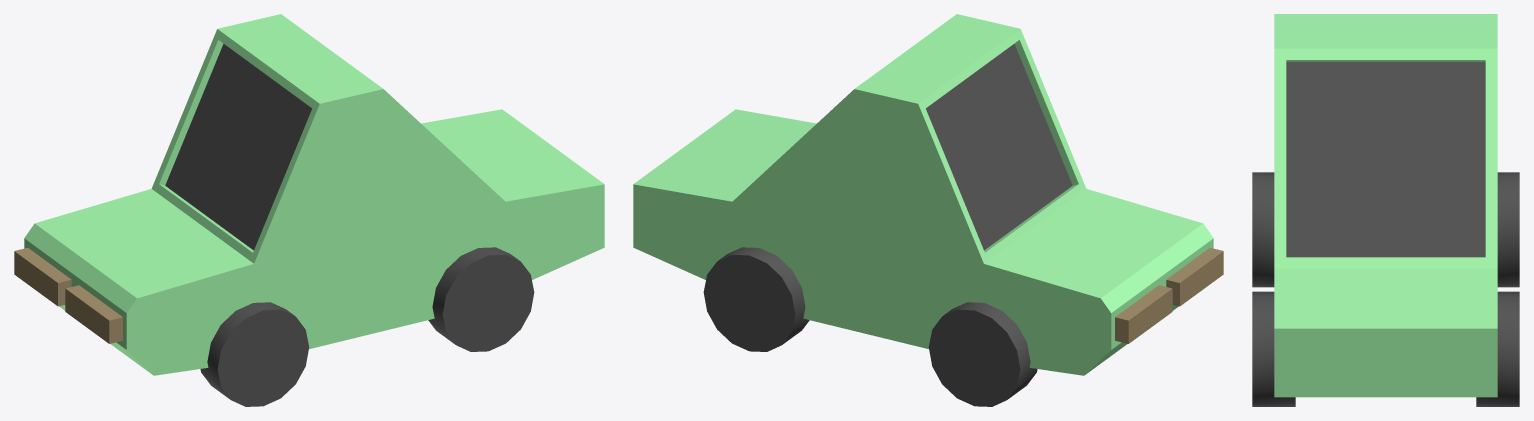
File: car-custom-green.glb
The picture shows the model from 3 angles, left to right: view 1: azimuth 30°, elevation 25°; view 2: azimuth 150°, elevation 25°; view 3: azimuth 270°, elevation 25°; orthographic projection. The views are drawn at different scales.
Visible parts, largest first — view 1: Cube, WINDHIELD, Cylinder, Cylinder 1, lights; view 2: Cube, WINDHIELD, Cylinder 2, Cylinder 3, lights; view 3: Cube, WINDHIELD, Cylinder 1, Cylinder 3, Cylinder 2, Cylinder.
Part boxes in pixels (x1,y1,x2,y2): Cube: (24,14,604,375); WINDHIELD: (165,43,311,250); Cylinder: (200,302,309,406); Cylinder 1: (428,247,534,351); lights: (14,247,122,343); Cube: (633,14,1213,375); WINDHIELD: (926,43,1072,250); Cylinder 2: (928,302,1037,406); Cylinder 3: (703,247,809,351); lights: (1115,247,1223,343); Cube: (1274,14,1497,397); WINDHIELD: (1286,61,1485,257); Cylinder 1: (1252,291,1295,406); Cylinder 3: (1476,291,1519,406); Cylinder 2: (1497,172,1519,287); Cylinder: (1252,172,1274,287).
Size of the model in its own units: 0.1444 by 0.0782 by 0.0625.
